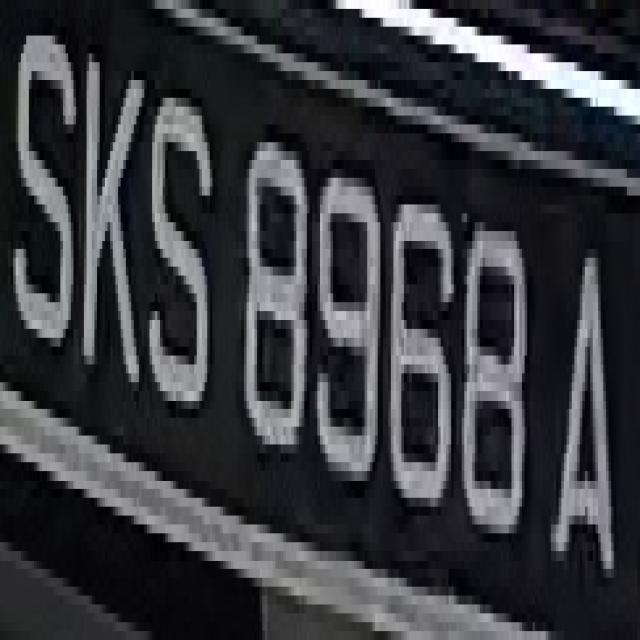6: (386, 169, 454, 542)
8: (247, 89, 312, 498), (459, 204, 527, 560)
9: (312, 133, 383, 507)
A: (556, 222, 614, 622)
K: (76, 44, 147, 436)
S: (144, 54, 215, 462), (16, 9, 76, 391)
